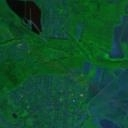alloviz: (3, 1, 43, 35)
